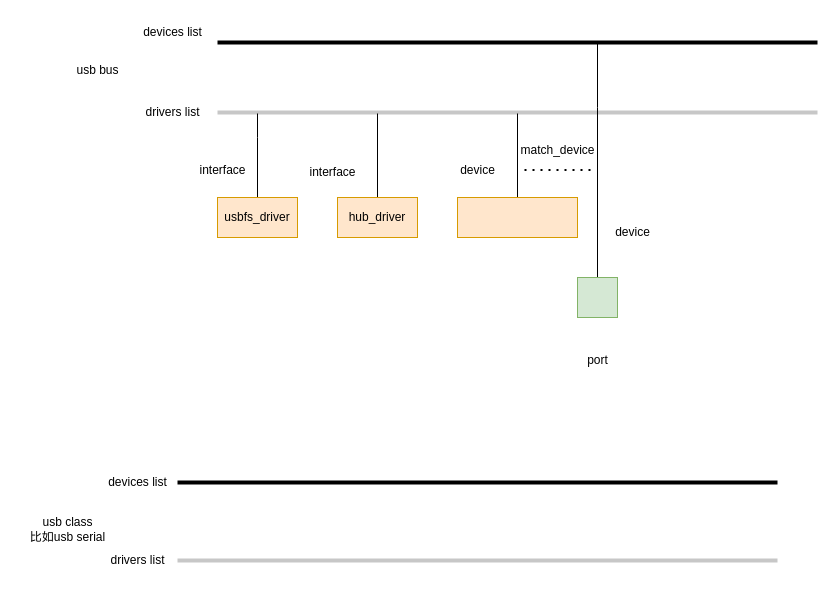
Some shapes in this 836 by 592 pixel diagram are drawn without their labels. The shapes that lost their labels are listed below. From the top down, each one's centre as x and y in pixels, then its label:
At pixel 517 217: "usb_generic_driver".
At pixel 597 297: "udev".
